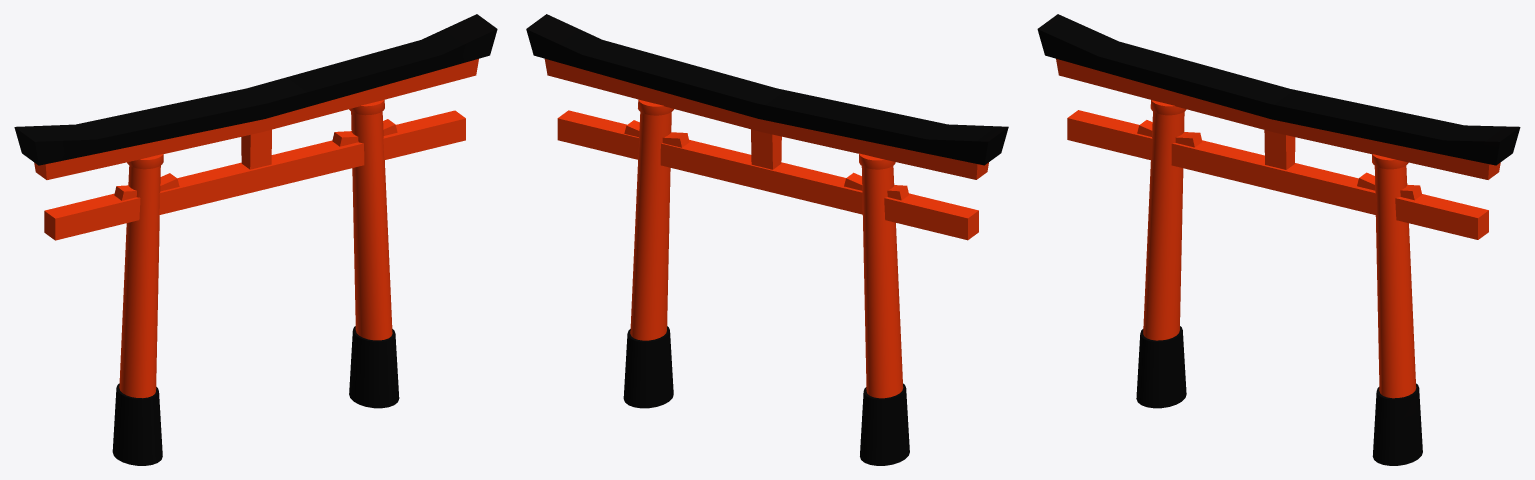
The model's file is TORIIGATI.fbx.
3 views of the same model, side by side, from view 1: azimuth 30°, elevation 25°; view 2: azimuth 150°, elevation 25°; view 3: azimuth 330°, elevation 25° (orthographic).
Parts seen in each view (by area): view 1: pasted__pasted__pCube1, pCube1, pCylinder1, pasted__pCylinder1, pasted__pCube1, pCube3, pCube2, pasted__pCube2; view 2: pasted__pasted__pCube1, pCube1, pCylinder1, pasted__pCylinder1, pasted__pCube1, pCube3, pasted__pCube2, pCube2; view 3: pasted__pasted__pCube1, pCube1, pasted__pCylinder1, pCylinder1, pasted__pCube1, pCube3, pCube2, pasted__pCube2.
Boxes of the visible parts, x1,y1,x2,y2 form: pasted__pasted__pCube1: (14,14,497,165); pCube1: (44,110,465,240); pCylinder1: (112,154,163,465); pasted__pCylinder1: (349,100,399,408); pasted__pCube1: (34,59,478,179); pCube3: (241,129,271,169); pCube2: (114,173,179,200); pasted__pCube2: (332,119,397,146); pasted__pasted__pCube1: (526,14,1008,165); pCube1: (557,110,978,240); pCylinder1: (859,153,909,465); pasted__pCylinder1: (623,99,674,408); pasted__pCube1: (544,59,988,179); pCube3: (751,129,781,169); pasted__pCube2: (624,120,689,147); pCube2: (844,172,909,200); pasted__pasted__pCube1: (1037,14,1520,165); pCube1: (1067,110,1488,239); pasted__pCylinder1: (1372,154,1422,465); pCylinder1: (1136,100,1186,408); pasted__pCube1: (1056,58,1500,179); pCube3: (1264,130,1295,169); pCube2: (1137,120,1202,147); pasted__pCube2: (1357,172,1422,200).
Size of the model in its own units: 18.39 by 13.21 by 2.
Materials: 1 (1 with a texture image).
